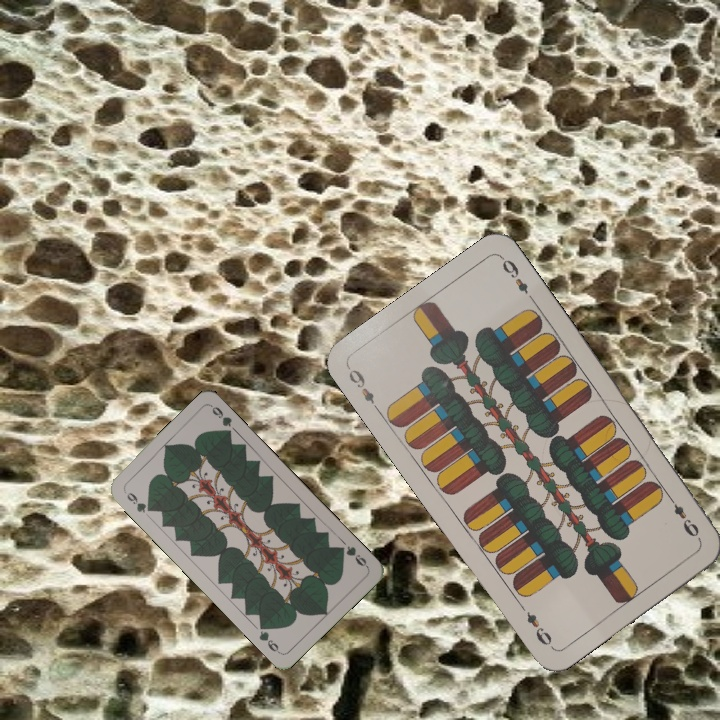E9: (664, 491, 704, 543), (344, 363, 383, 415)
G9: (334, 542, 371, 570), (120, 487, 155, 516)
